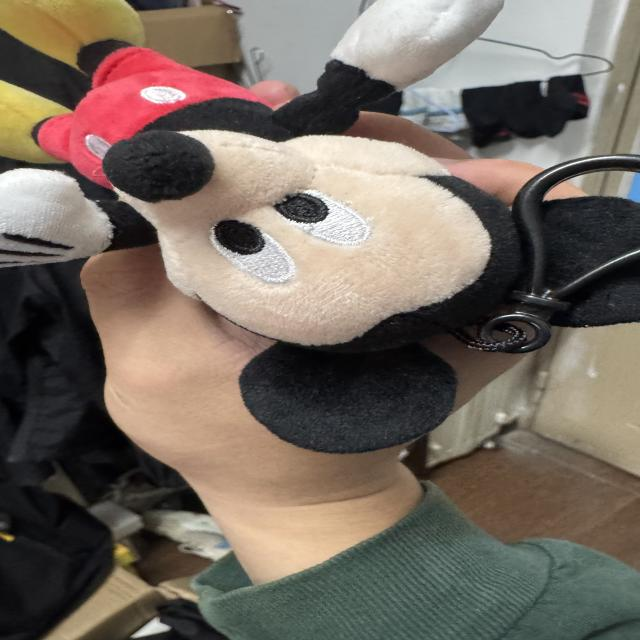mickey: (0, 0, 531, 453)
